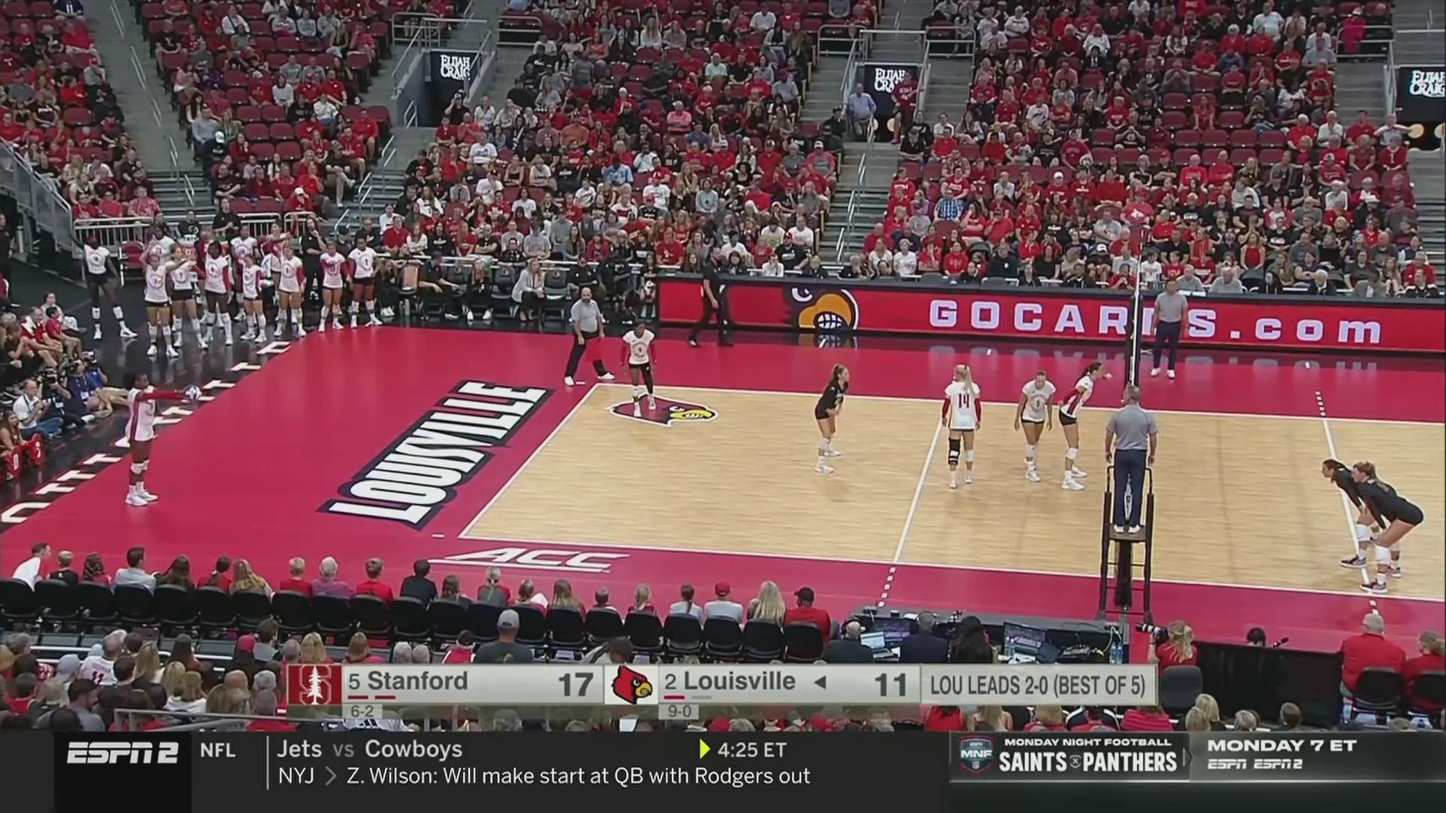player: (1353, 463, 1423, 594), (127, 372, 192, 510), (1323, 456, 1394, 567), (1060, 364, 1110, 489), (942, 365, 982, 487), (1014, 372, 1055, 480), (621, 322, 660, 415), (816, 365, 850, 471)
refree: (1105, 391, 1157, 531), (563, 287, 615, 383), (1150, 279, 1189, 375)
